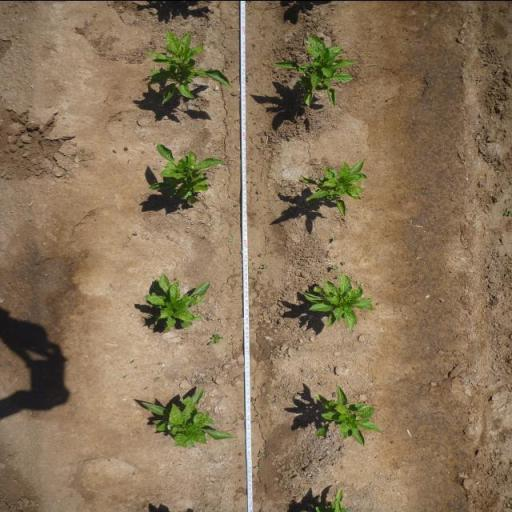plant: (149, 24, 234, 105), (271, 34, 357, 108), (138, 384, 237, 448), (144, 143, 226, 207), (301, 274, 377, 332), (297, 158, 369, 218), (142, 272, 212, 330), (312, 386, 382, 442), (312, 486, 352, 512)
weed: (208, 332, 226, 344), (259, 262, 270, 269), (330, 263, 339, 271), (224, 236, 233, 242), (245, 72, 250, 82), (153, 376, 161, 382), (122, 145, 130, 151), (258, 451, 264, 458), (331, 234, 337, 241), (319, 380, 325, 386), (143, 76, 150, 81), (254, 465, 262, 469), (340, 260, 347, 264), (224, 354, 232, 357), (257, 270, 263, 274), (233, 202, 241, 205), (311, 474, 317, 478), (122, 374, 128, 378), (130, 358, 134, 364), (250, 276, 258, 278), (157, 362, 164, 364), (133, 232, 138, 234)
